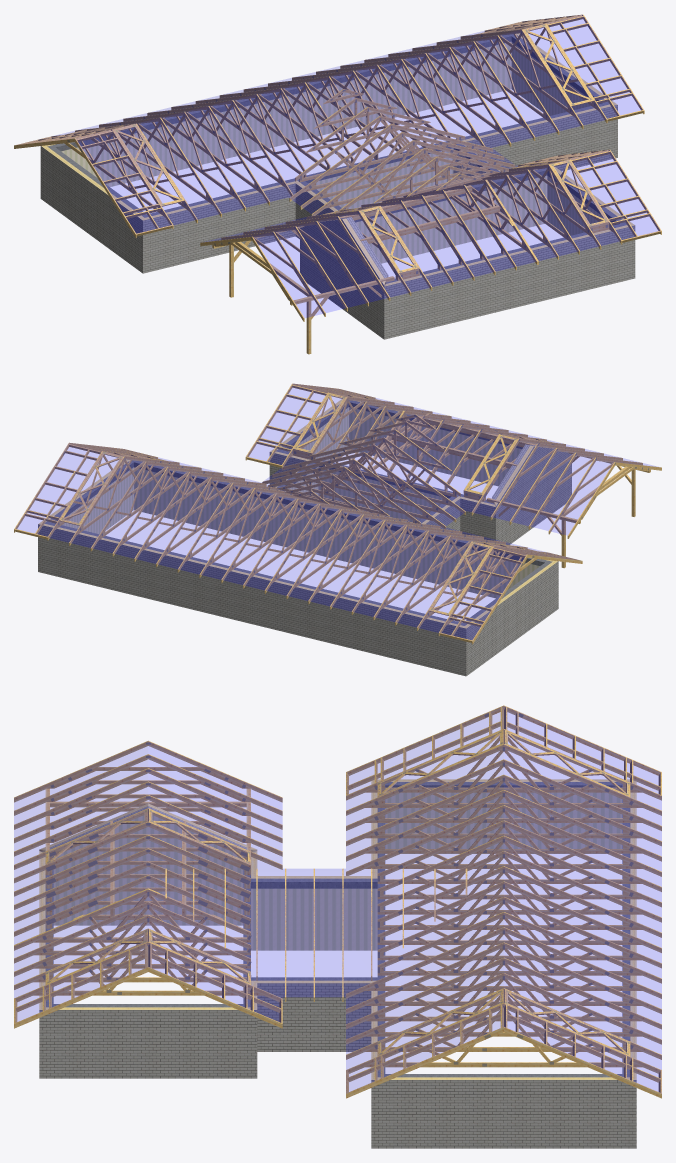
3 renders of one model, top to bottom at view 1: azimuth 30°, elevation 25°; view 2: azimuth 150°, elevation 25°; view 3: azimuth 270°, elevation 25°, orthographic. The views are drawn at different scales.
Visible parts, largest first — view 1: skfb_offset; view 2: skfb_offset; view 3: skfb_offset.
Boxes of the visible parts, left/top/right/bottom form: skfb_offset: left=14, top=14, right=661, bottom=354; skfb_offset: left=14, top=383, right=661, bottom=676; skfb_offset: left=14, top=705, right=661, bottom=1148.
Size of the model in its own units: 24104 by 4607 by 20500.
Materials: 9 (8 with a texture image).
